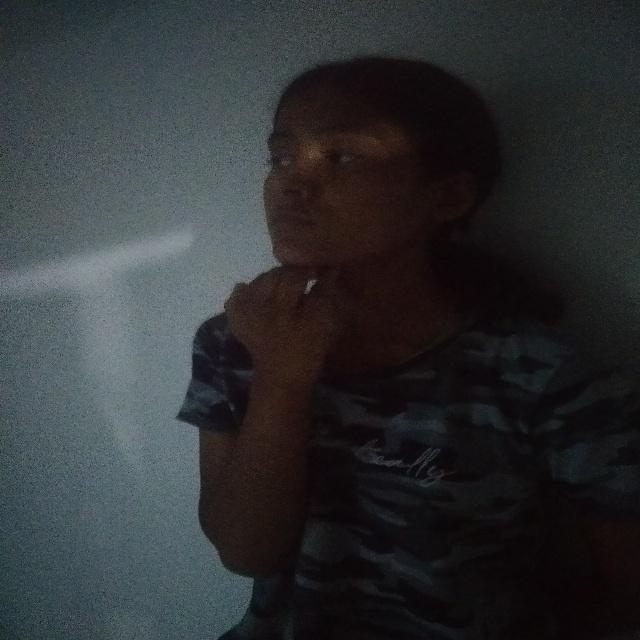Chin Flick: (207, 44, 494, 385)
